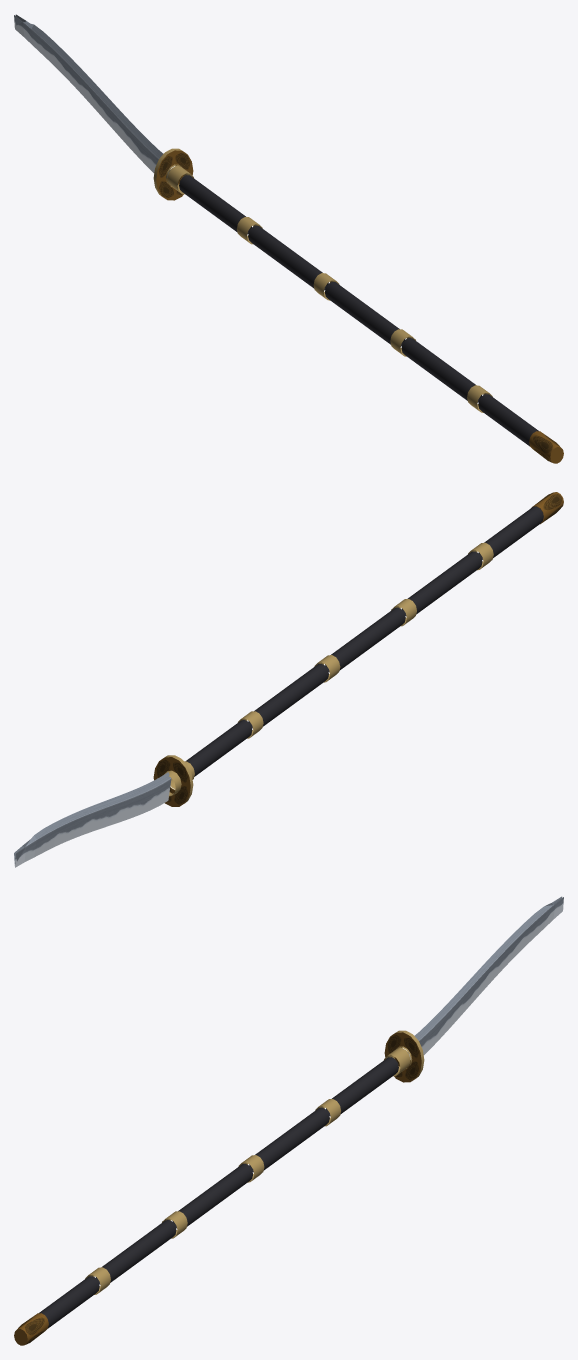
Rendered from naginata.glb.
3 renders of one model, top to bottom at view 1: azimuth 30°, elevation 25°; view 2: azimuth 150°, elevation 25°; view 3: azimuth 330°, elevation 25°, orthographic.
Parts seen in each view (by area): view 1: main; view 2: main; view 3: main.
Boxes of the visible parts, x1,y1,x2,y2 form: main: [14, 14, 563, 463]; main: [14, 492, 563, 867]; main: [14, 896, 563, 1345].
Size of the model in its own units: 0.084 by 0.1576 by 2.12.
4 materials, 2 textured.
